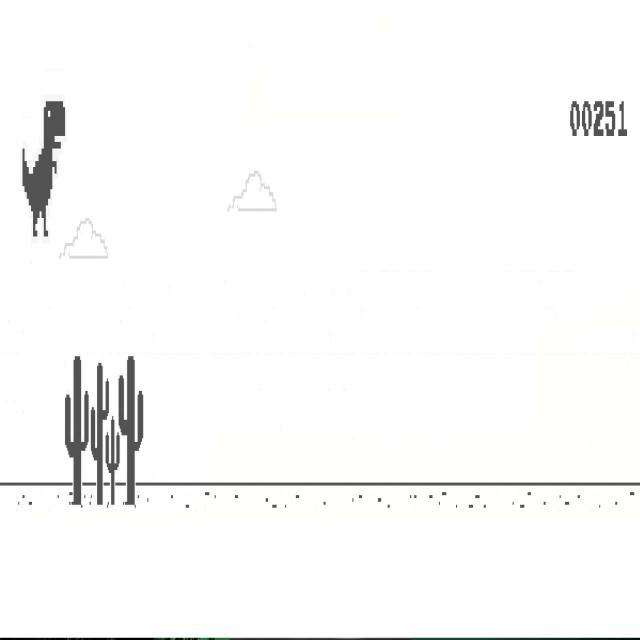cacto: (118, 354, 144, 506), (64, 354, 89, 506), (90, 362, 110, 506), (106, 416, 120, 506)
dino: (22, 100, 66, 238)
